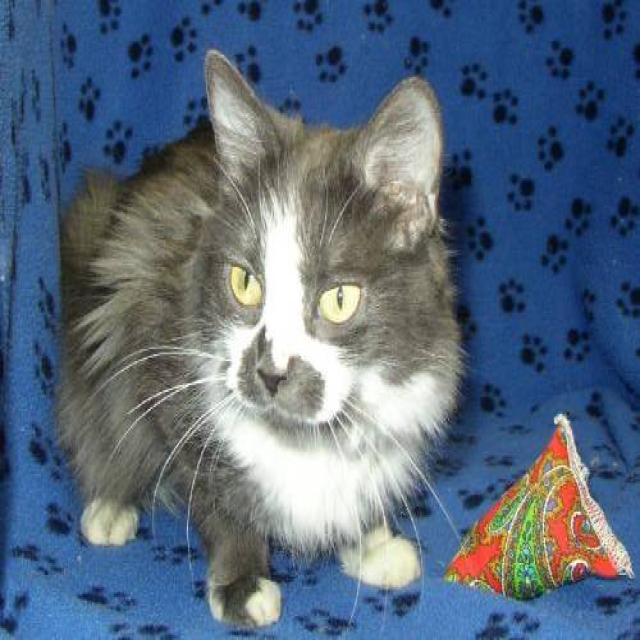cat: (53, 46, 467, 630)
